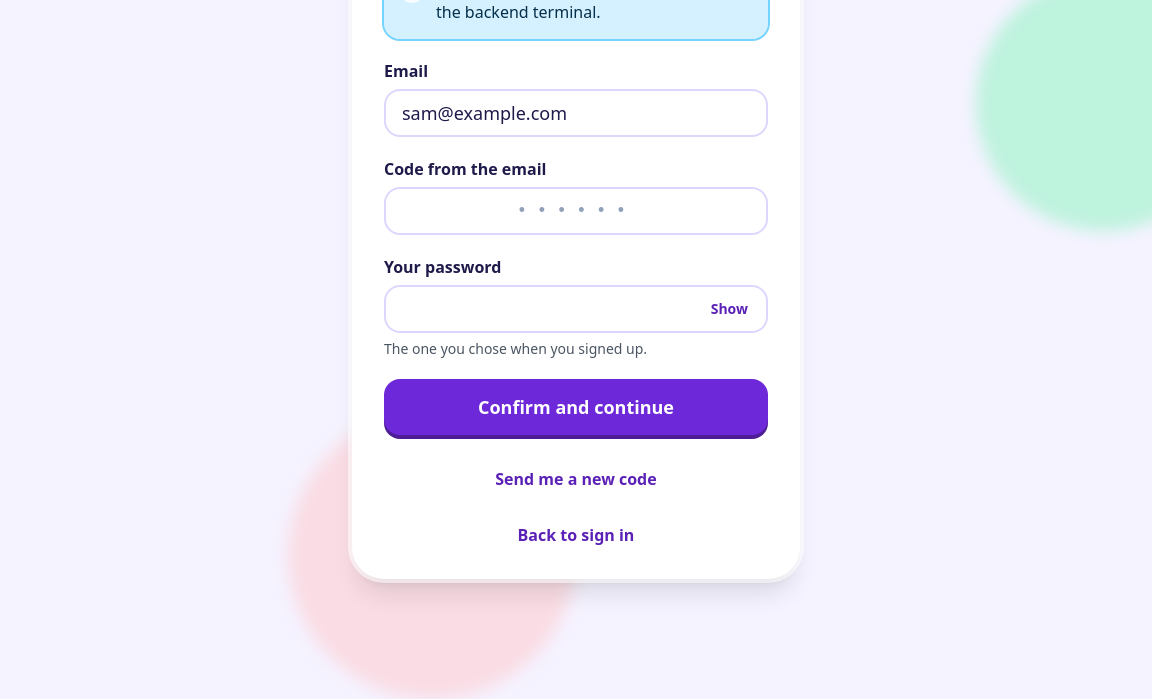
Verify email › can send a new code, then waits before allowing another
(page scrolled)
Click the button "Send me a new code" at (576,479), box [384,455,768,503]
(page scrolled)
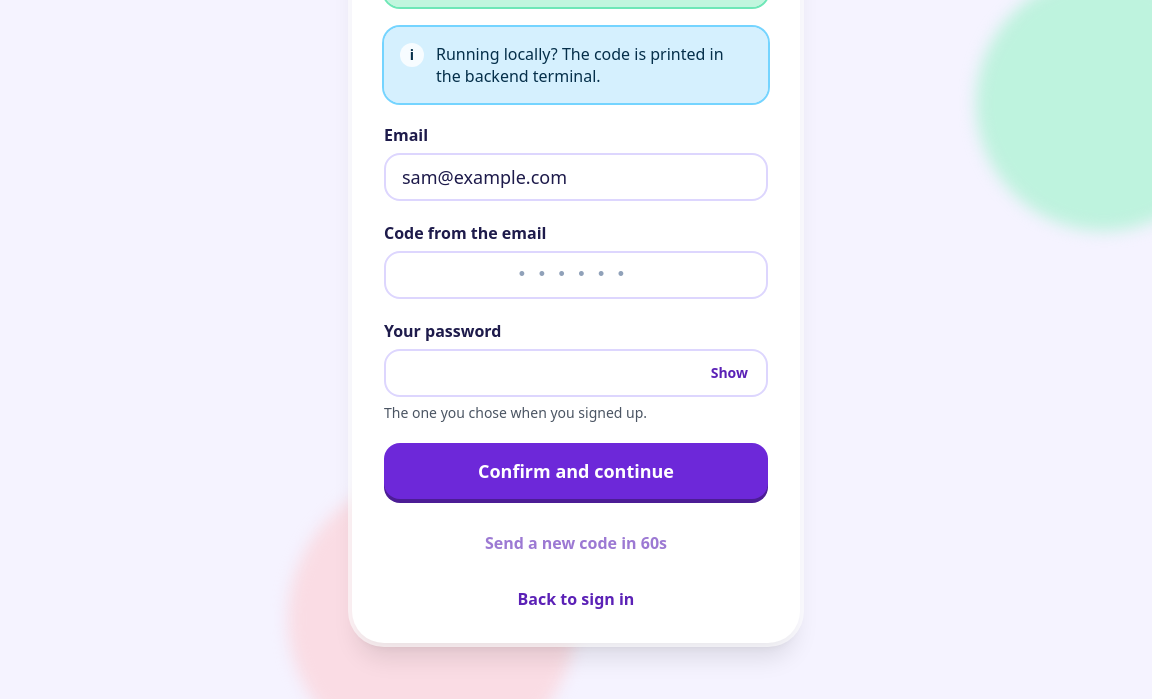
Expected: the button "Send a new code in 60s" is disabled, [384,519,768,567]
